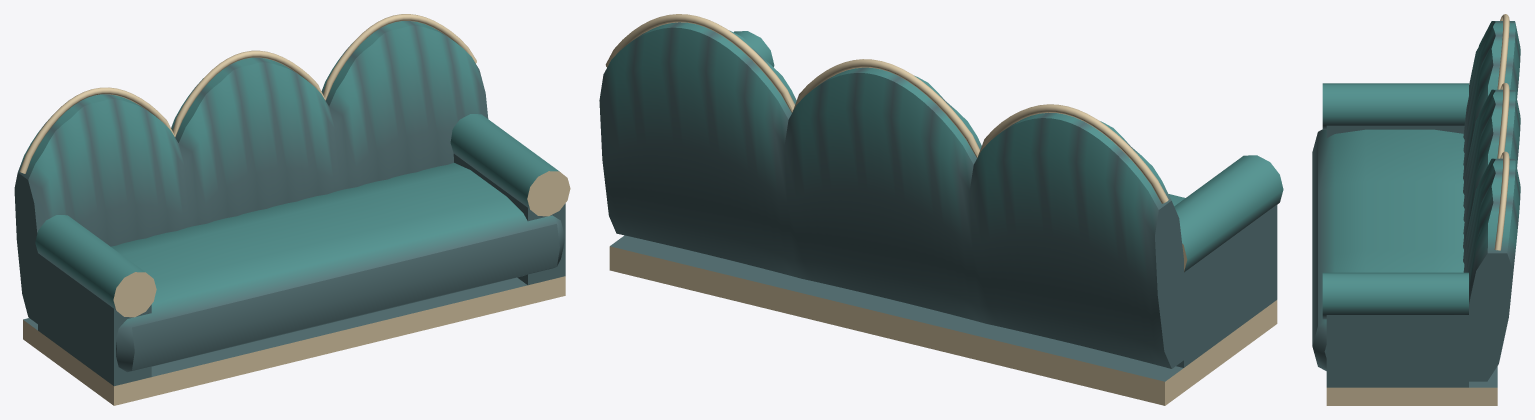
The model's file is KC32__AD_Int_Banquette_Shell.glb.
The picture shows the model from 3 angles, left to right: view 1: azimuth 30°, elevation 25°; view 2: azimuth 150°, elevation 25°; view 3: azimuth 270°, elevation 25°; orthographic projection. The views are drawn at different scales.
Parts seen in each view (by area): view 1: KC32_CORPS__AD_Int_Banquette_Shell, KC32_BRONZE__AD_Int_Banquette_Shell; view 2: KC32_CORPS__AD_Int_Banquette_Shell, KC32_BRONZE__AD_Int_Banquette_Shell; view 3: KC32_CORPS__AD_Int_Banquette_Shell, KC32_BRONZE__AD_Int_Banquette_Shell.
Boxes of the visible parts, box(x1,y1,x2,y2) form: KC32_CORPS__AD_Int_Banquette_Shell: box(14, 21, 565, 386); KC32_BRONZE__AD_Int_Banquette_Shell: box(19, 14, 570, 405); KC32_CORPS__AD_Int_Banquette_Shell: box(599, 22, 1283, 381); KC32_BRONZE__AD_Int_Banquette_Shell: box(605, 14, 1277, 405); KC32_CORPS__AD_Int_Banquette_Shell: box(1312, 21, 1520, 387); KC32_BRONZE__AD_Int_Banquette_Shell: box(1326, 14, 1509, 405).
Size of the model in its own units: 2.43 by 1.16 by 1.02.
